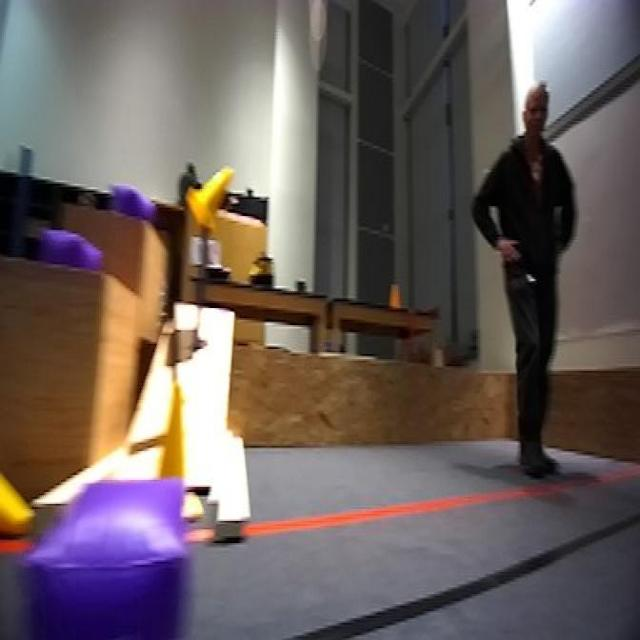frc_cone: (140, 378, 222, 541), (0, 420, 44, 555), (188, 158, 240, 233)
frc_cube: (0, 449, 206, 640), (34, 220, 110, 278), (108, 179, 146, 218)
